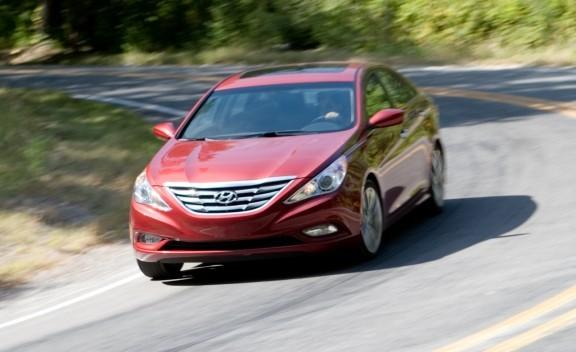Sedan: (128, 59, 447, 279)
